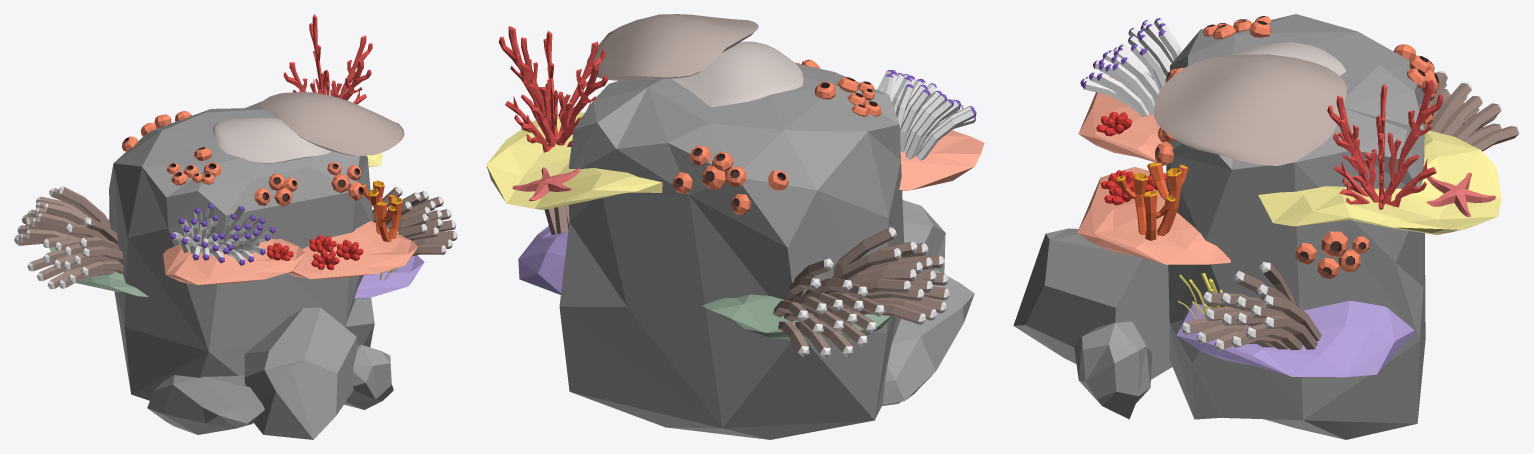
The model's file is Coral_reef_008.glb.
3 renders of one model, left to right at view 1: azimuth 30°, elevation 25°; view 2: azimuth 150°, elevation 25°; view 3: azimuth 270°, elevation 25°, orthographic. The views are drawn at different scales.
Visible parts, largest first — view 1: Coral_reef_008; view 2: Coral_reef_008; view 3: Coral_reef_008.
Part boxes in pixels (x1,y1,x2,y2): Coral_reef_008: (14,14,457,439); Coral_reef_008: (486,14,984,439); Coral_reef_008: (1013,14,1519,439).
Size of the model in its own units: 5.57 by 4.35 by 5.05.
Materials: 1 (1 with a texture image).
